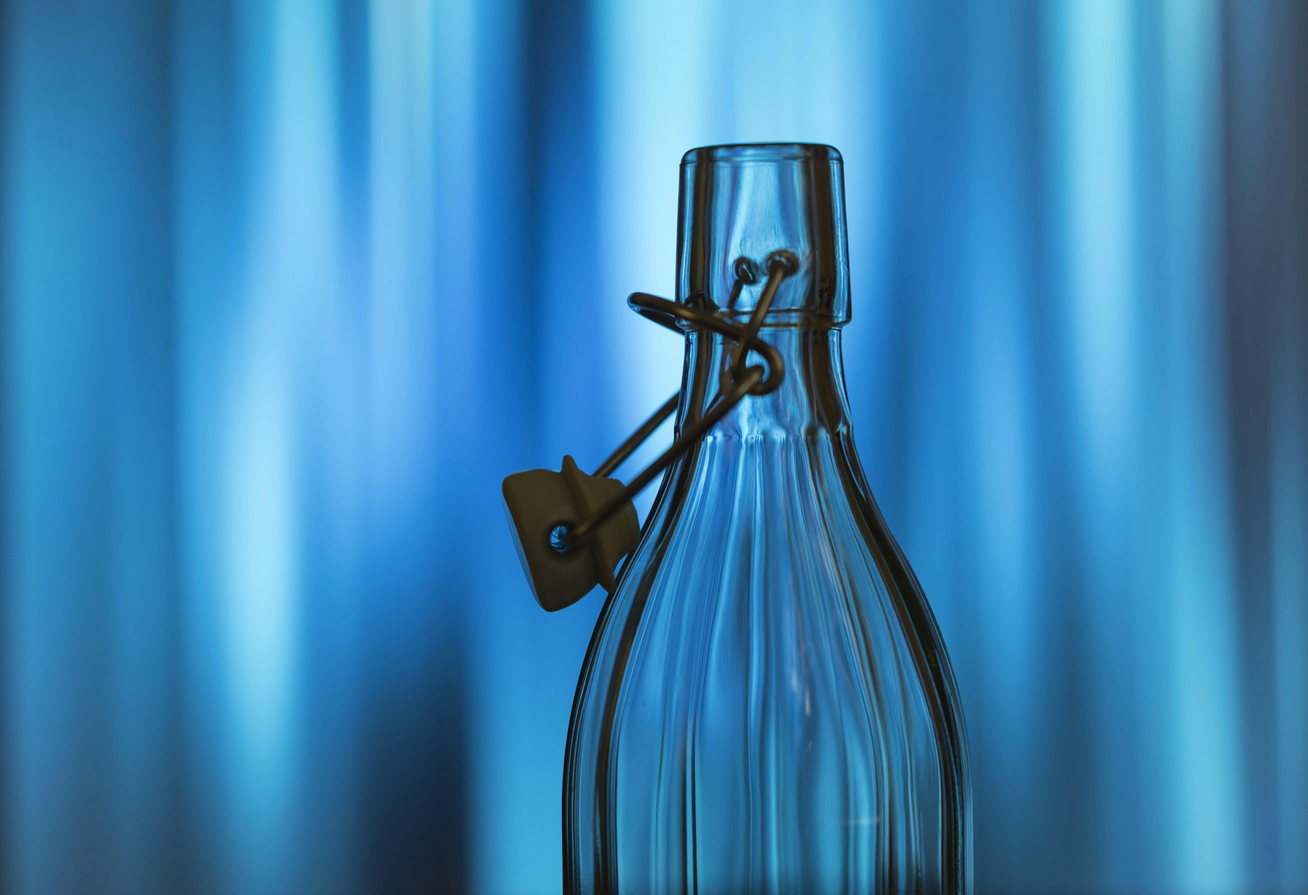Bottle-Detection: (455, 102, 1042, 892)
